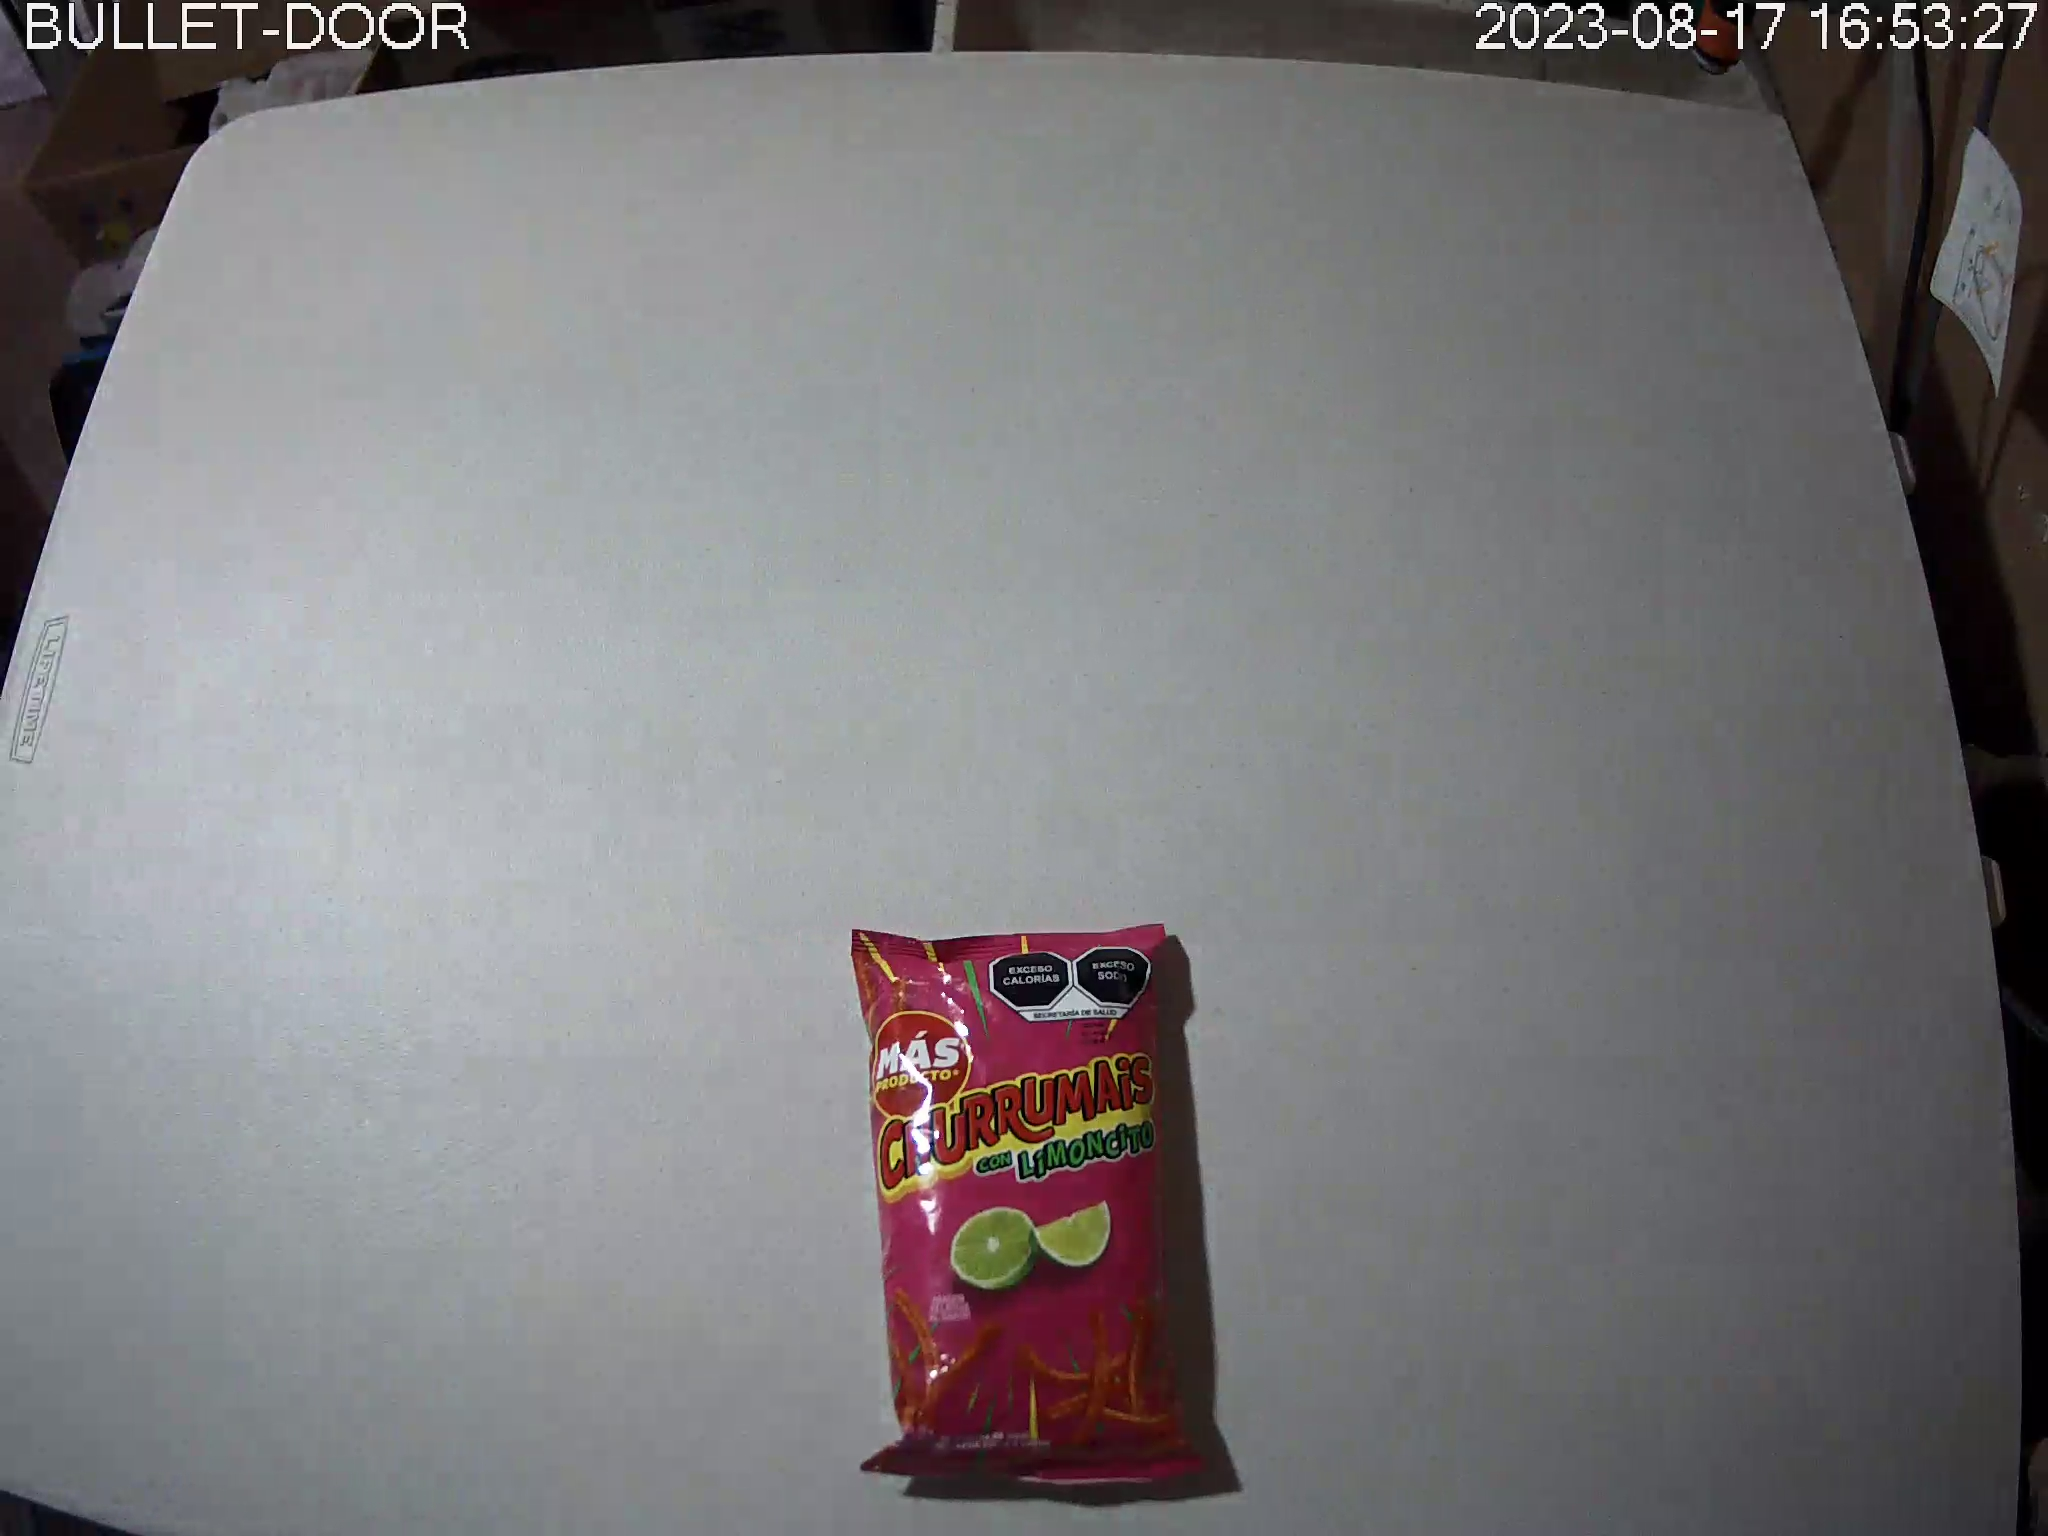Churrumais_70_F: (848, 925, 1213, 1488)
